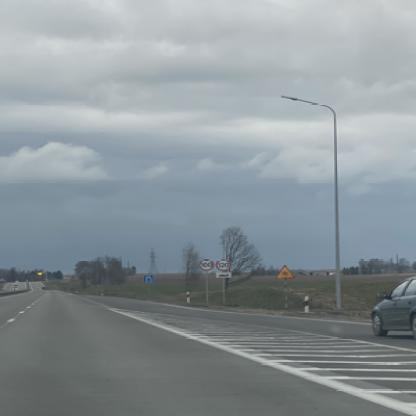speedlimit: (214, 256, 231, 270), (196, 258, 210, 270)
